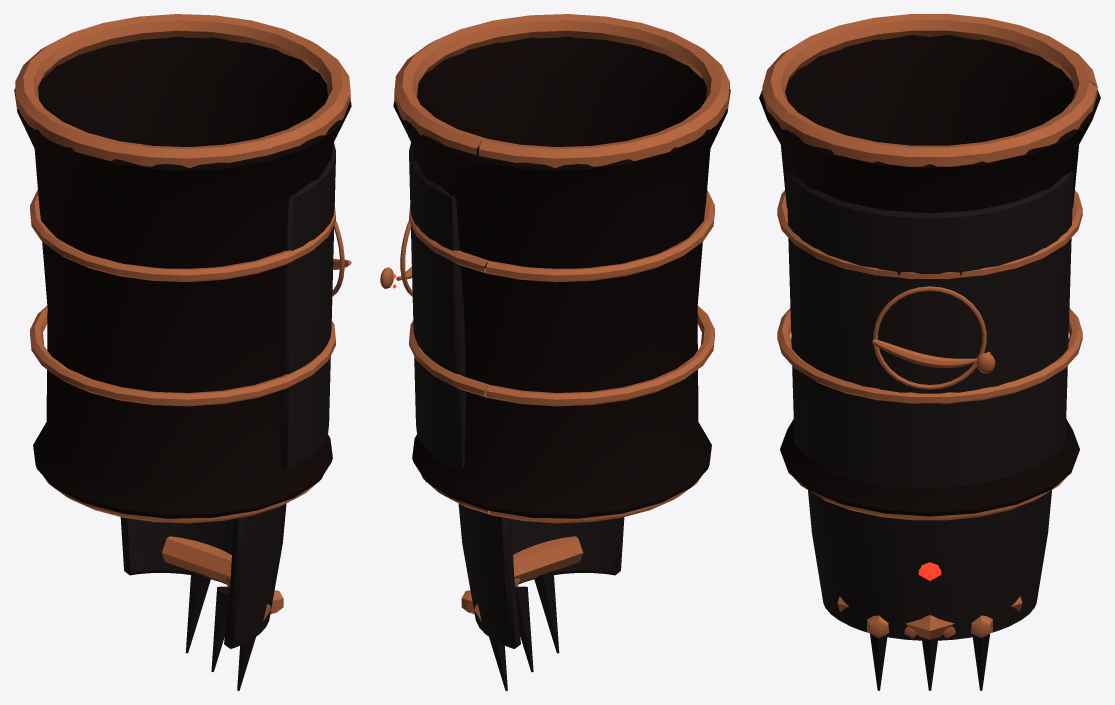
The model's file is asc_abyssal_fang_gloves.glb.
3 views of the same model, side by side, from view 1: azimuth 30°, elevation 25°; view 2: azimuth 150°, elevation 25°; view 3: azimuth 270°, elevation 25° (orthographic).
Parts seen in each view (by area): view 1: asc_abyssal_fang_gloves, AT_hand_L; view 2: asc_abyssal_fang_gloves, AT_hand_L; view 3: asc_abyssal_fang_gloves, AT_hand_L.
Part boxes in pixels (<box>): asc_abyssal_fang_gloves: <box>14,14,351,523</box>; AT_hand_L: <box>120,503,286,690</box>; asc_abyssal_fang_gloves: <box>380,14,730,523</box>; AT_hand_L: <box>458,504,624,690</box>; asc_abyssal_fang_gloves: <box>759,14,1100,520</box>; AT_hand_L: <box>808,490,1051,690</box>.
Bounding box in the file's own units: 0.2009 × 0.385 × 0.2004.
